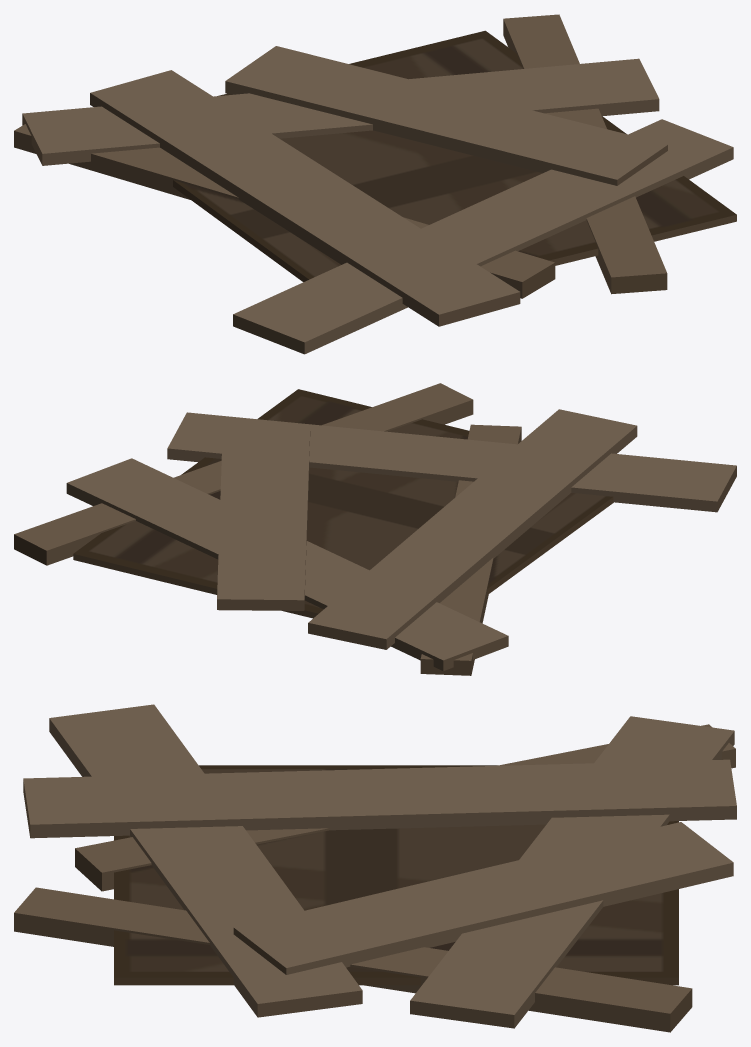
File: SD_Env_Goblin_Platform_Small_01.fbx
3 renders of one model, top to bottom at view 1: azimuth 30°, elevation 25°; view 2: azimuth 150°, elevation 25°; view 3: azimuth 270°, elevation 25°, orthographic. The views are drawn at different scales.
Visible parts, largest first — view 1: SD_Env_Goblin_Platform_Small_01; view 2: SD_Env_Goblin_Platform_Small_01; view 3: SD_Env_Goblin_Platform_Small_01.
Boxes of the visible parts, bbox=[...] form: SD_Env_Goblin_Platform_Small_01: bbox=[14, 14, 736, 354]; SD_Env_Goblin_Platform_Small_01: bbox=[14, 383, 736, 675]; SD_Env_Goblin_Platform_Small_01: bbox=[14, 704, 736, 1032].
Bounding box in the file's own units: 5.49 × 0.2493 × 5.4.
